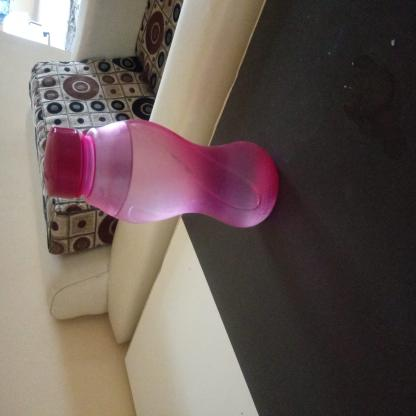bottle: (141, 57, 226, 373)
